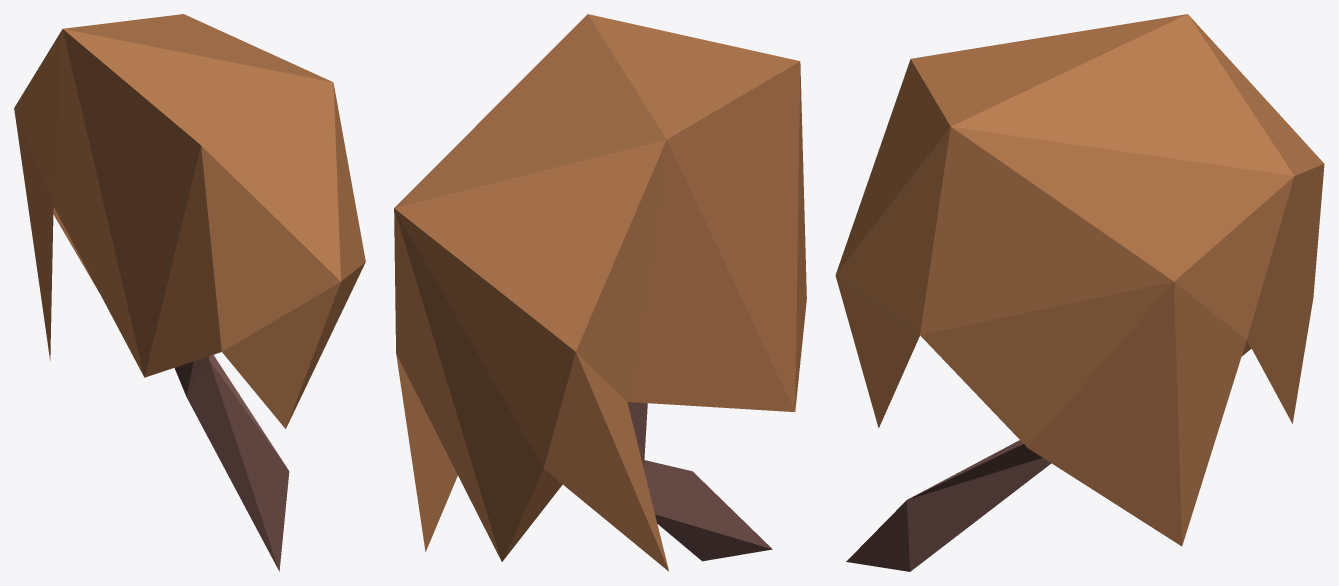
The model's file is Willow_Autumn_3.lod3.glb.
3 views of the same model, side by side, from view 1: azimuth 30°, elevation 25°; view 2: azimuth 150°, elevation 25°; view 3: azimuth 270°, elevation 25° (orthographic). The views are drawn at different scales.
Visible parts, largest first — view 1: Willow_Autumn_3; view 2: Willow_Autumn_3; view 3: Willow_Autumn_3.
Part boxes in pixels (<box>): Willow_Autumn_3: <box>14,14,365,571</box>; Willow_Autumn_3: <box>394,14,806,571</box>; Willow_Autumn_3: <box>835,14,1324,571</box>.
Bounding box in the file's own units: 1.19 × 2.25 × 1.95.
